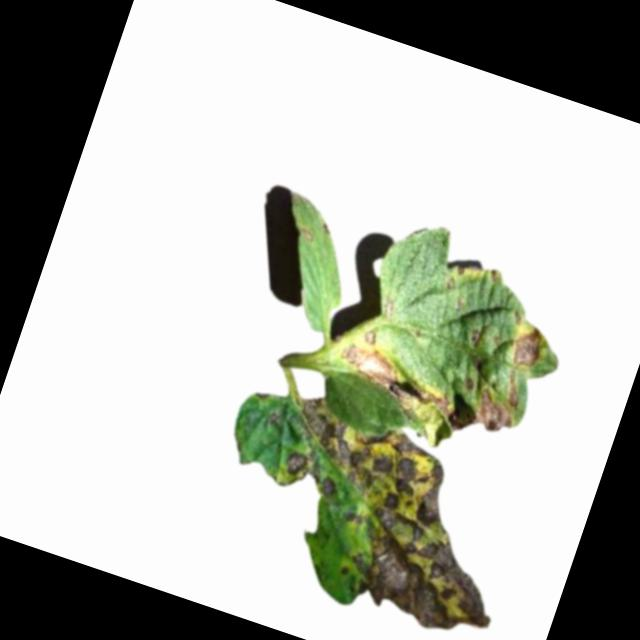Early_blight: (246, 392, 541, 640), (332, 323, 421, 403), (469, 387, 521, 438), (401, 379, 457, 422), (505, 319, 549, 373), (500, 367, 530, 408), (465, 326, 483, 348)
